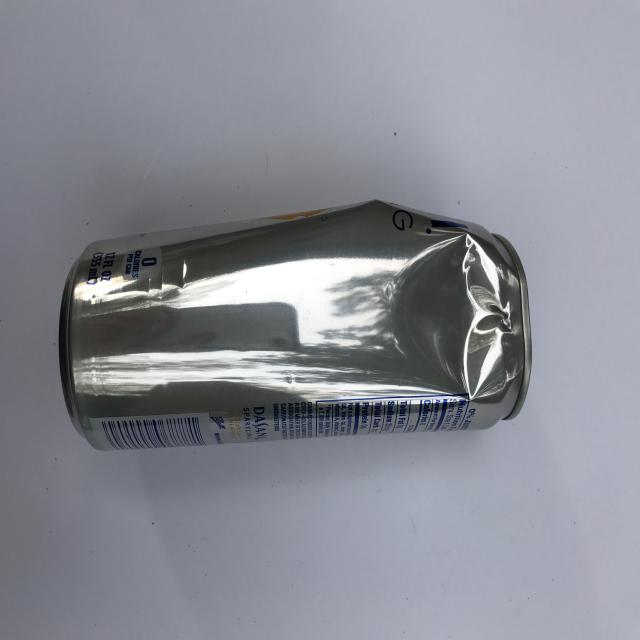metal: (58, 198, 532, 452)
